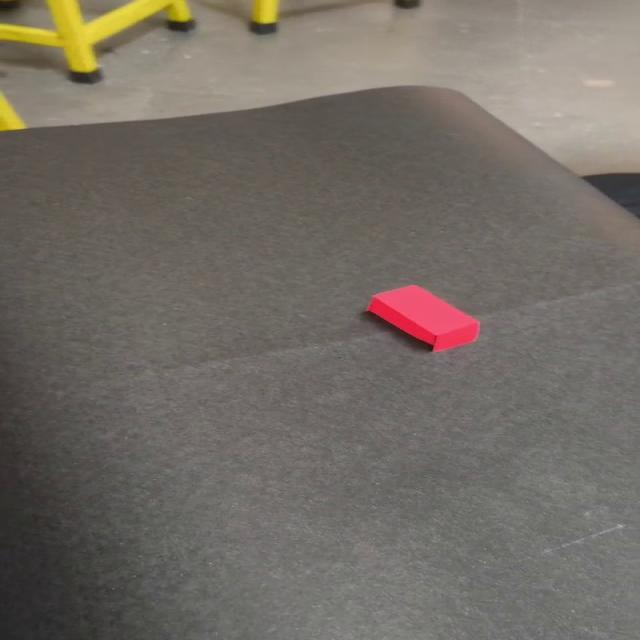red block: (365, 284, 480, 352)
